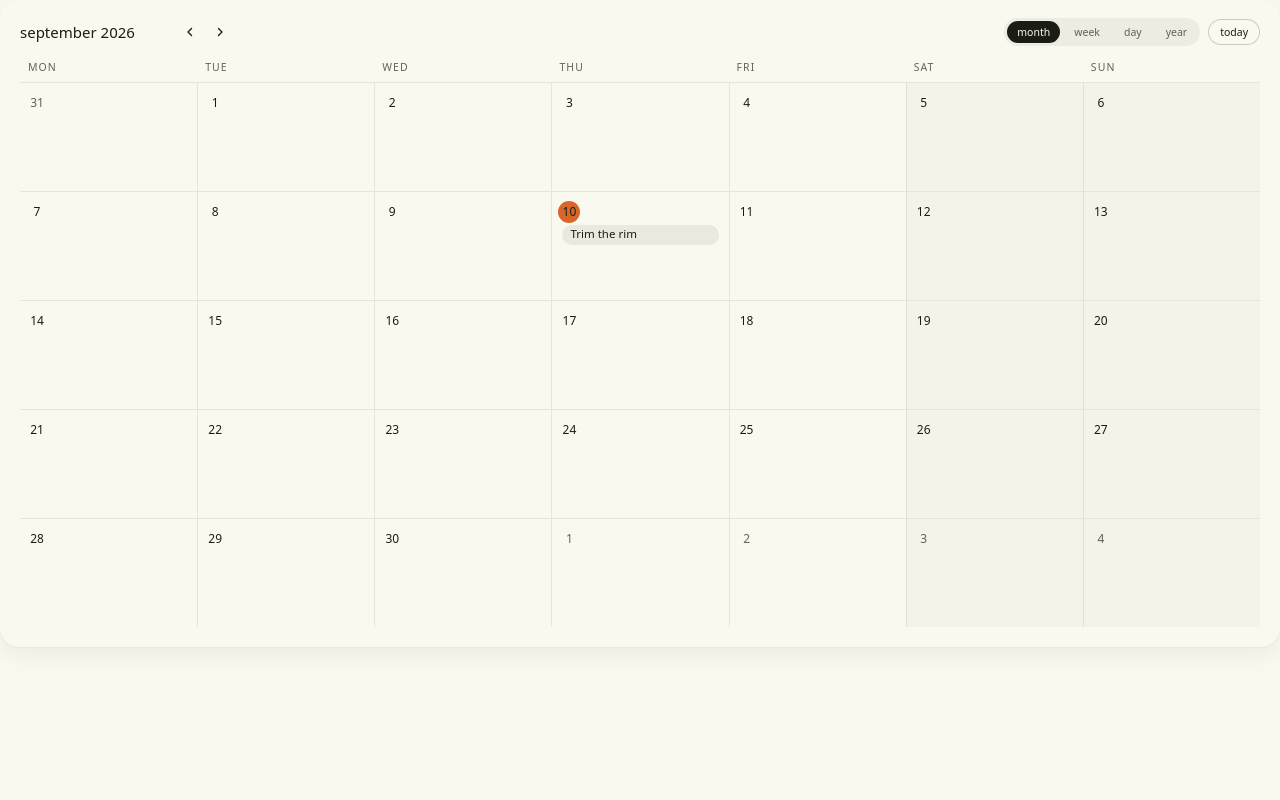
Scenario: CollectionCalendar — month span chrome and empty state (#262 1/3) › prev/next/today stepping and the card chrome › next advances the period label to the next month; today returns to the current month
Expected: the text "september 2026" is shown, left=20, top=22, right=135, bottom=42
What coordinates should you click on to do the following:
click the button named "Next month"
I would click on:
 (220, 32)
Its box is left=206, top=18, right=234, bottom=46.
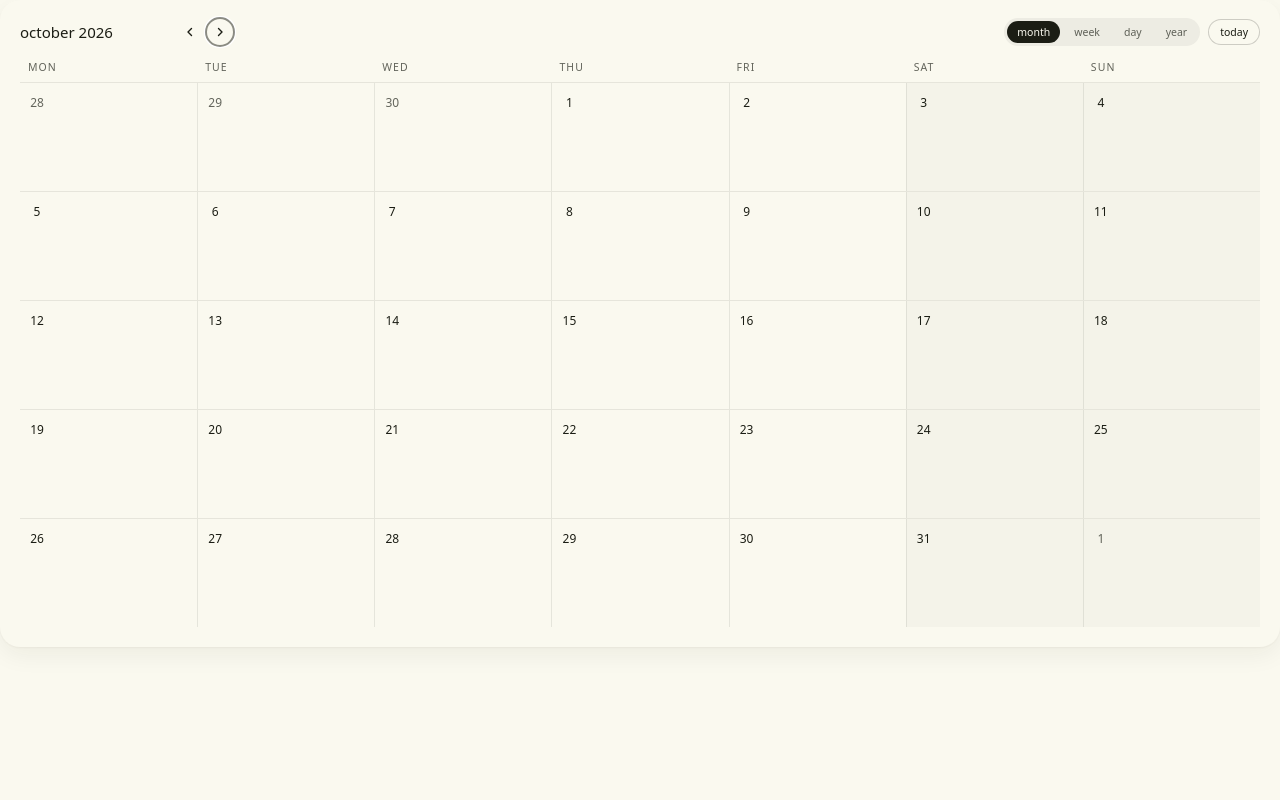
Now the text "october 2026" is shown, box left=20, top=22, right=113, bottom=42
Now the text "september 2026" is gone
What coordinates should you click on to do the following:
click the button "today"
I would click on:
 (1234, 32)
Its box is left=1208, top=19, right=1260, bottom=45.
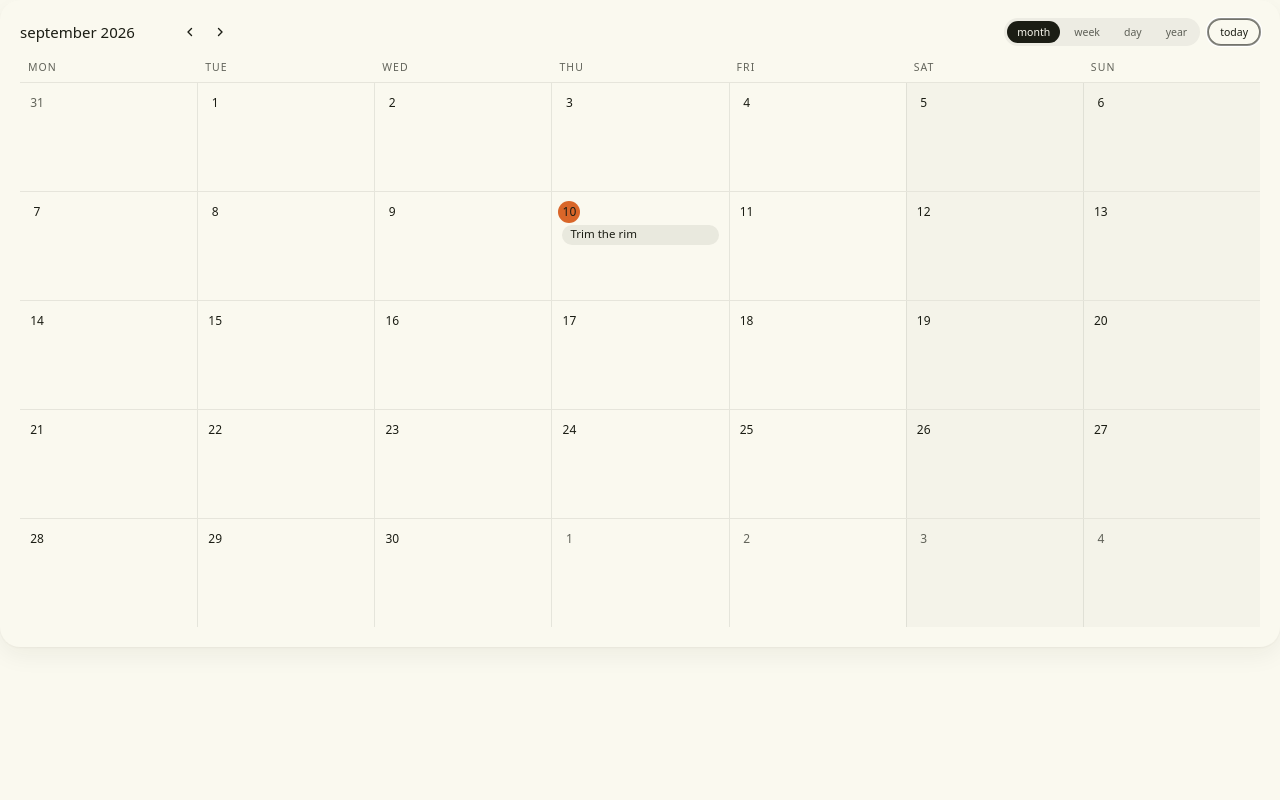
Now the text "september 2026" is shown, box left=20, top=22, right=135, bottom=42
